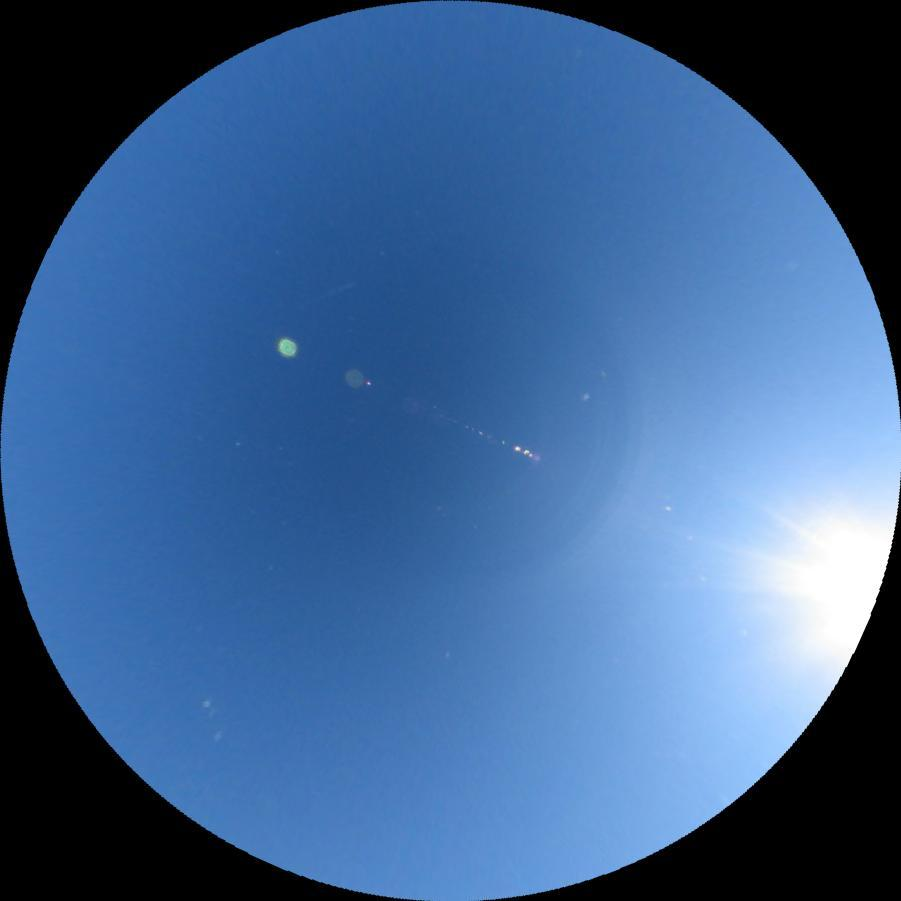contrail young: (312, 281, 356, 302)
sun: (778, 508, 896, 679)
